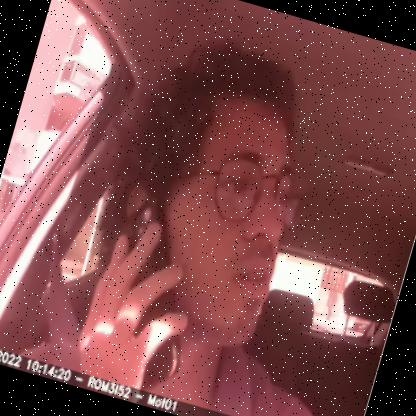phone: (73, 185, 230, 391)
